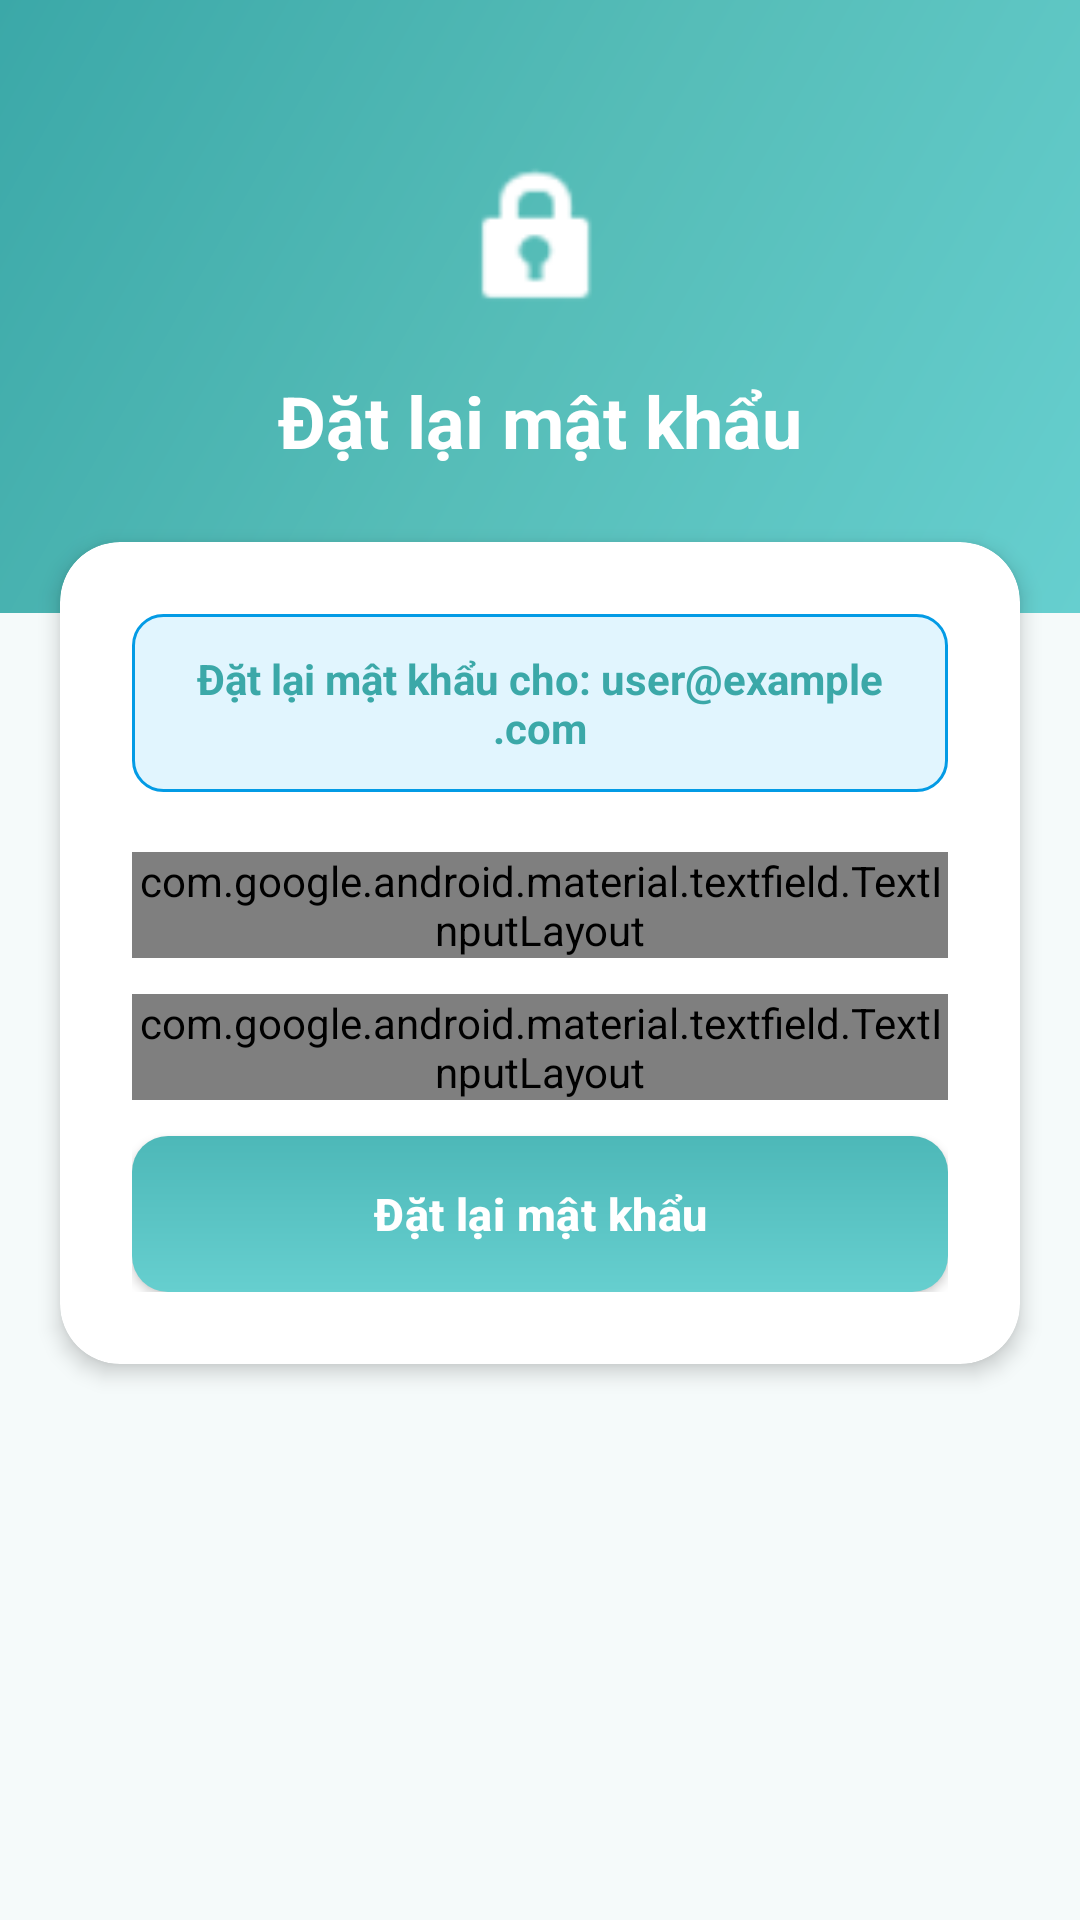

Icons on this 1080px x 1920px Android screen, each with the point to tap as (x,y):
lock idle: (536,235)
